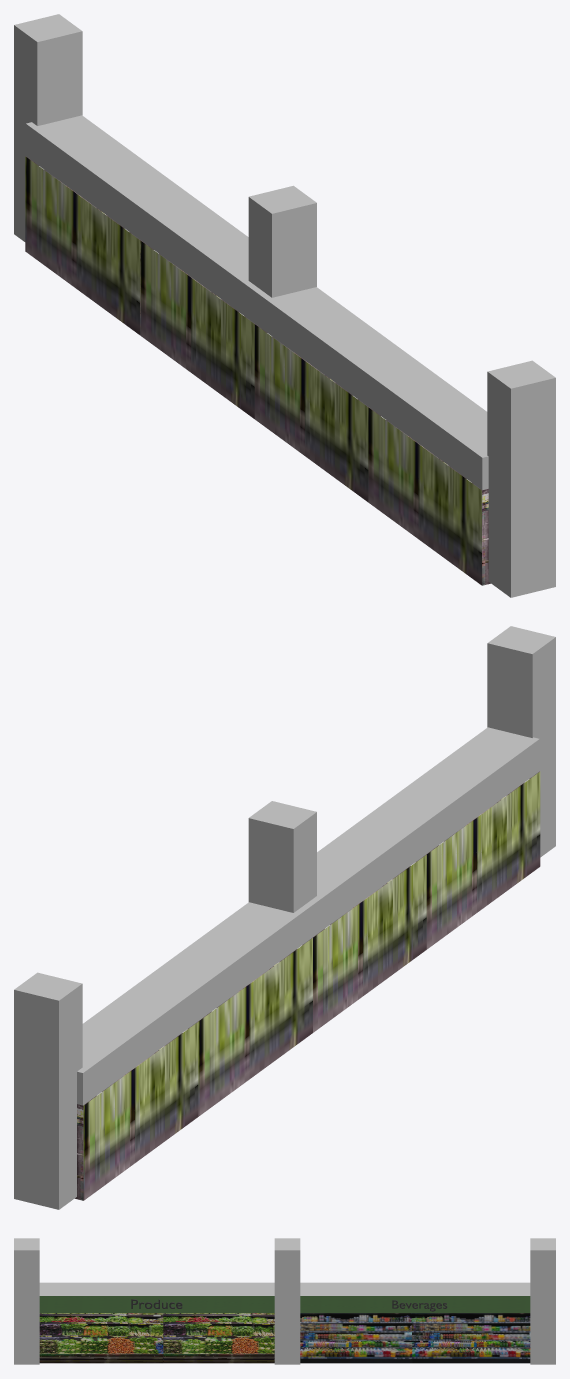
The model's file is freezer tengah new.fbx.
3 views of the same model, one above another, from view 1: azimuth 30°, elevation 25°; view 2: azimuth 150°, elevation 25°; view 3: azimuth 270°, elevation 25° (orthographic). The views are drawn at different scales.
Parts seen in each view (by area): view 1: Cube.025, Librero.062, Librero.066, Cube.134, Cube.135, Cube.142; view 2: Cube.025, Librero.066, Librero.062, Cube.135, Cube.134, Cube.142; view 3: Cube.025, Librero.062, Librero.066, Cube.142, Cube.134, Cube.135, Text.006, Text.007.
Boxes of the visible parts, x1,y1,x2,y2 form: Cube.025: (25, 115, 488, 489); Librero.062: (254, 323, 490, 585); Librero.066: (25, 156, 254, 418); Cube.134: (487, 360, 555, 597); Cube.135: (14, 14, 82, 241); Cube.142: (248, 185, 316, 297); Cube.025: (77, 727, 539, 1105); Librero.066: (75, 937, 312, 1200); Librero.062: (313, 771, 540, 1032); Cube.135: (14, 972, 82, 1209); Cube.134: (487, 626, 555, 857); Cube.142: (248, 801, 316, 912); Cube.025: (39, 1282, 530, 1312); Librero.062: (39, 1313, 274, 1363); Librero.066: (300, 1313, 530, 1363); Cube.142: (274, 1238, 300, 1364); Cube.134: (14, 1238, 39, 1364); Cube.135: (530, 1238, 555, 1364); Text.006: (392, 1300, 447, 1311); Text.007: (131, 1299, 182, 1308).
Size of the model in its own units: 155 by 597 by 2540.
